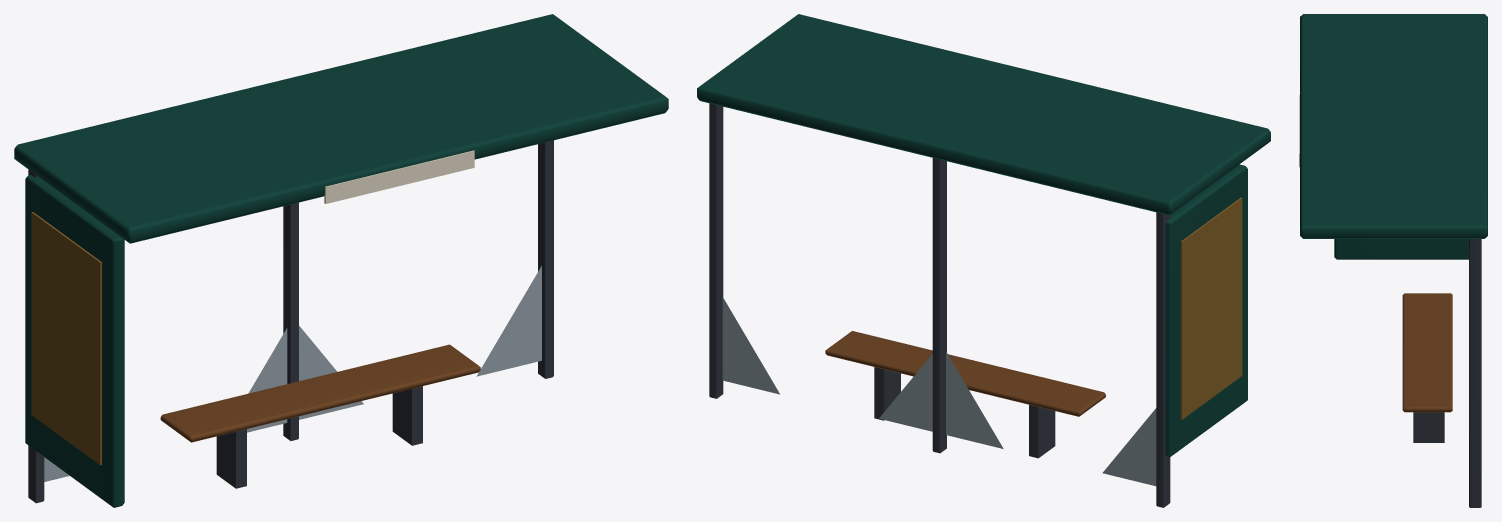
File: bus-shelter-broken.glb
3 renders of one model, left to right at view 1: azimuth 30°, elevation 25°; view 2: azimuth 150°, elevation 25°; view 3: azimuth 270°, elevation 25°, orthographic. The views are drawn at different scales.
Visible parts, largest first — view 1: bus-shelter-broken; view 2: bus-shelter-broken; view 3: bus-shelter-broken.
Boxes of the visible parts, bbox=[...] form: bus-shelter-broken: bbox=[14, 14, 668, 507]; bus-shelter-broken: bbox=[697, 14, 1270, 507]; bus-shelter-broken: bbox=[1299, 14, 1487, 507].
Bounding box in the file's own units: 4 × 2.5 × 1.49.
1 material, 1 textured.
